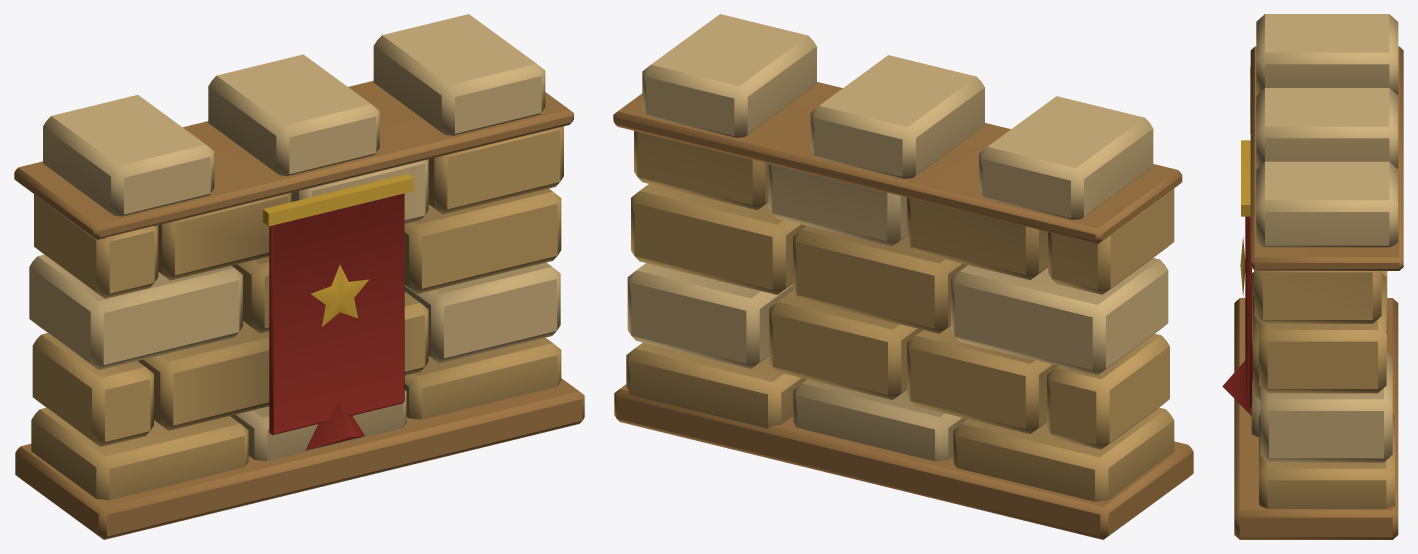
Rendered from mt_wall_2.glb.
The picture shows the model from 3 angles, left to right: view 1: azimuth 30°, elevation 25°; view 2: azimuth 150°, elevation 25°; view 3: azimuth 270°, elevation 25°; orthographic projection. The views are drawn at different scales.
Parts seen in each view (by area): view 1: body; view 2: body; view 3: body.
Boxes of the visible parts, x1=… form: body: x1=14, y1=14, x2=584, y2=539; body: x1=613, y1=14, x2=1193, y2=539; body: x1=1222, y1=14, x2=1403, y2=539.
Bounding box in the file's own units: 4.7 × 3.3 × 1.66.
